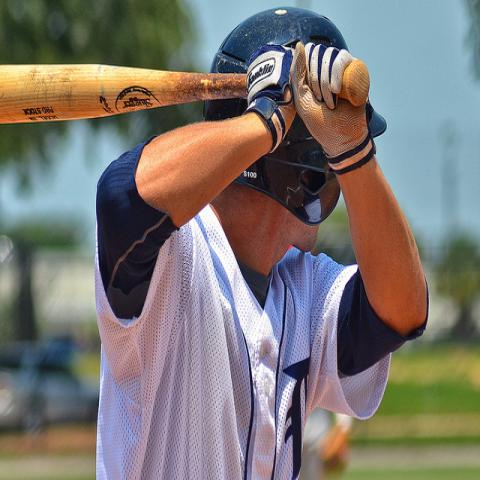car: (0, 338, 102, 433)
